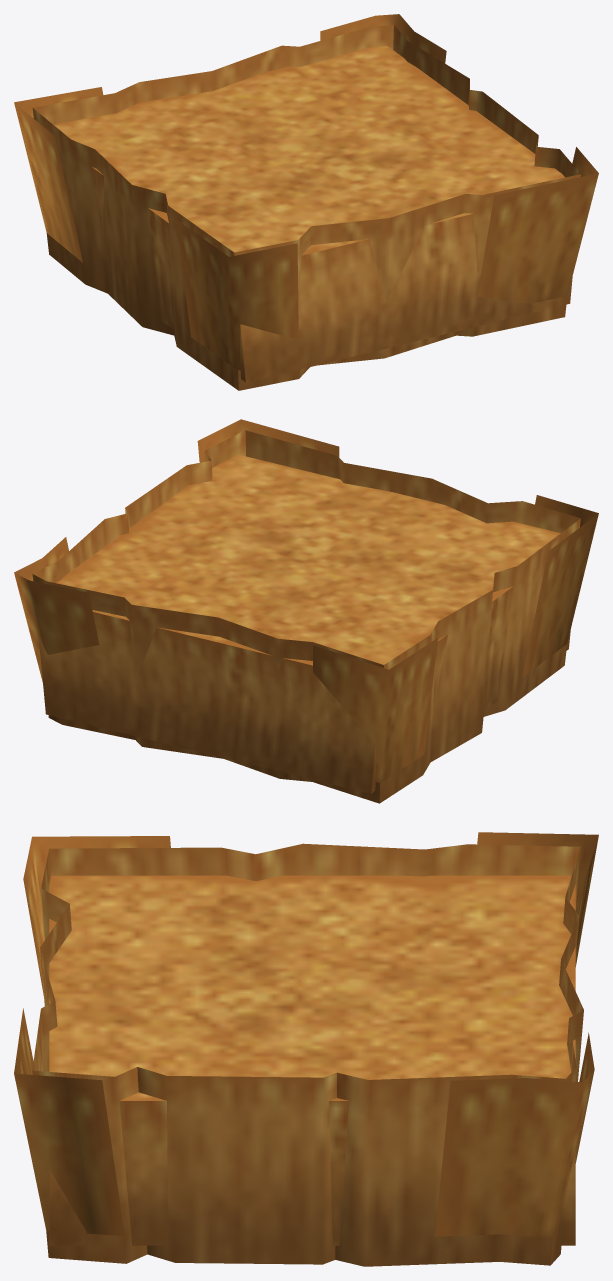
File: straw_c.FBX
3 views of the same model, one above another, from view 1: azimuth 30°, elevation 25°; view 2: azimuth 150°, elevation 25°; view 3: azimuth 270°, elevation 25° (orthographic). The views are drawn at different scales.
Visible parts, largest first — view 1: polySurface2217; view 2: polySurface2217; view 3: polySurface2217.
Boxes of the visible parts, left/top/right/bottom form: polySurface2217: left=14, top=14, right=598, bottom=390; polySurface2217: left=14, top=419, right=598, bottom=803; polySurface2217: left=14, top=832, right=598, bottom=1266.
Bounding box in the file's own units: 81.52 × 80.6 × 30.11.
